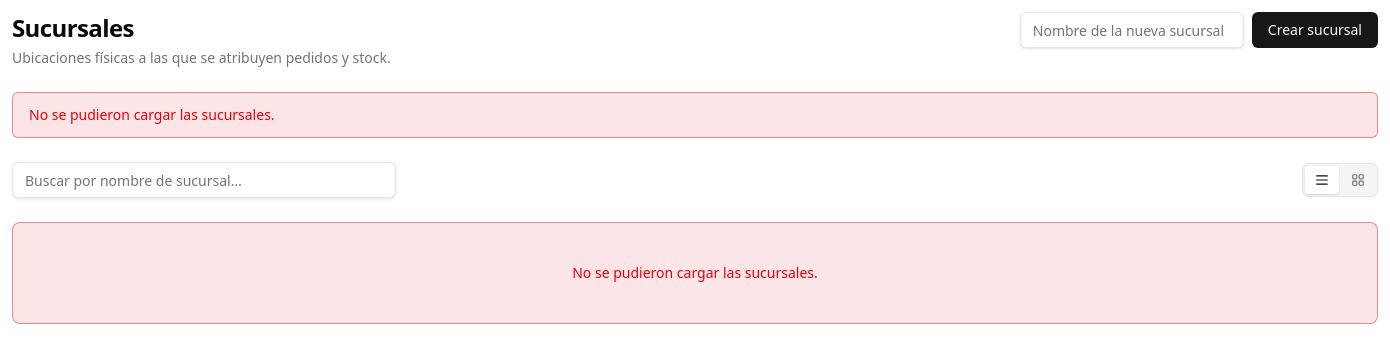
Test: BranchesScreen › stops reporting a load failure once a later load succeeds
expect the text "No se pudieron cargar las sucursales." is shown: met, box [12,222,1378,324]
Type "Central warehouse" into the field named "Nombre de la sucursal".
click(1132, 30); type("Central warehouse")  # box [1020,12,1244,48]
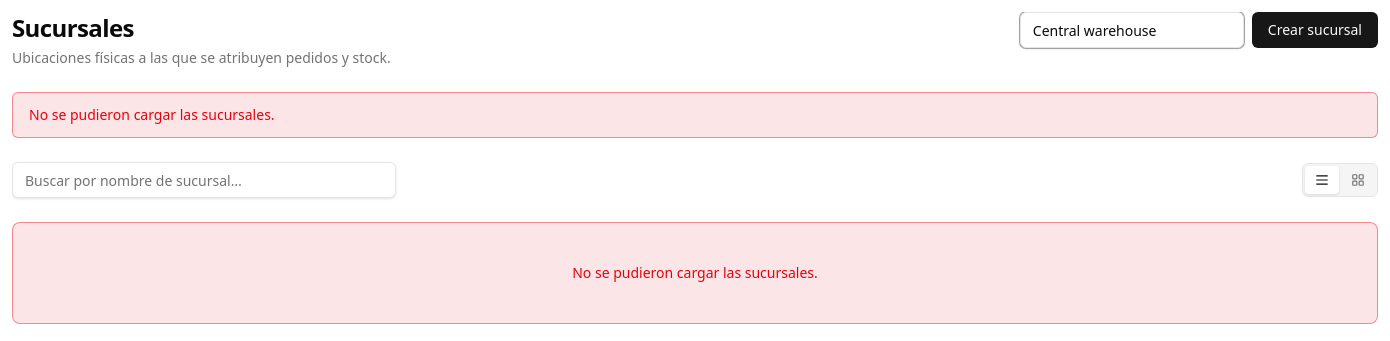
Click the button "Crear sucursal".
click(1315, 30)  # box [1252,12,1378,48]
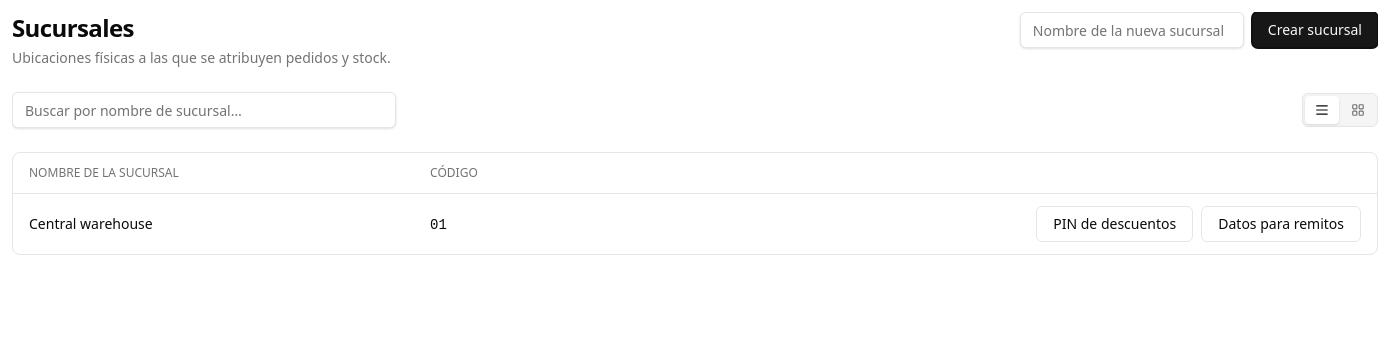
expect the text "Central warehouse" is shown: met, box [13,194,414,254]
expect the text with test id "data-view-load-error" is gone: met
expect the message "No se pudieron cargar las sucursales." is gone: met
